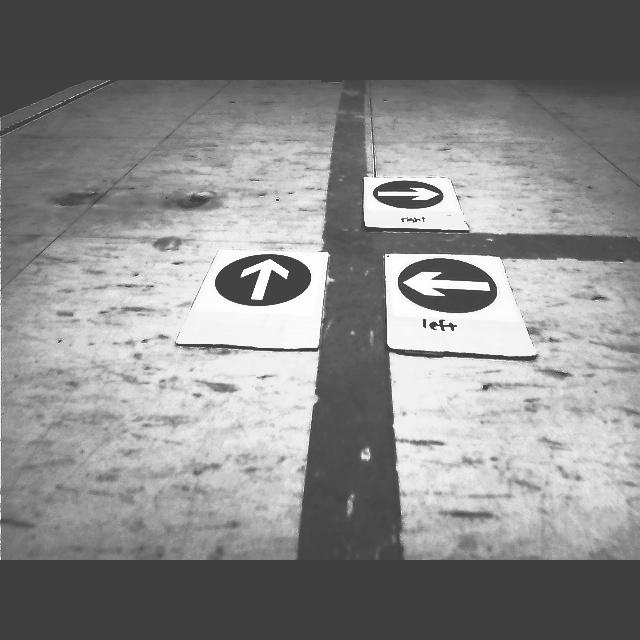GO FORWARD: (215, 254, 311, 305)
TURN LEFT: (397, 259, 499, 311)
TURN RIGHT: (373, 180, 444, 207)
